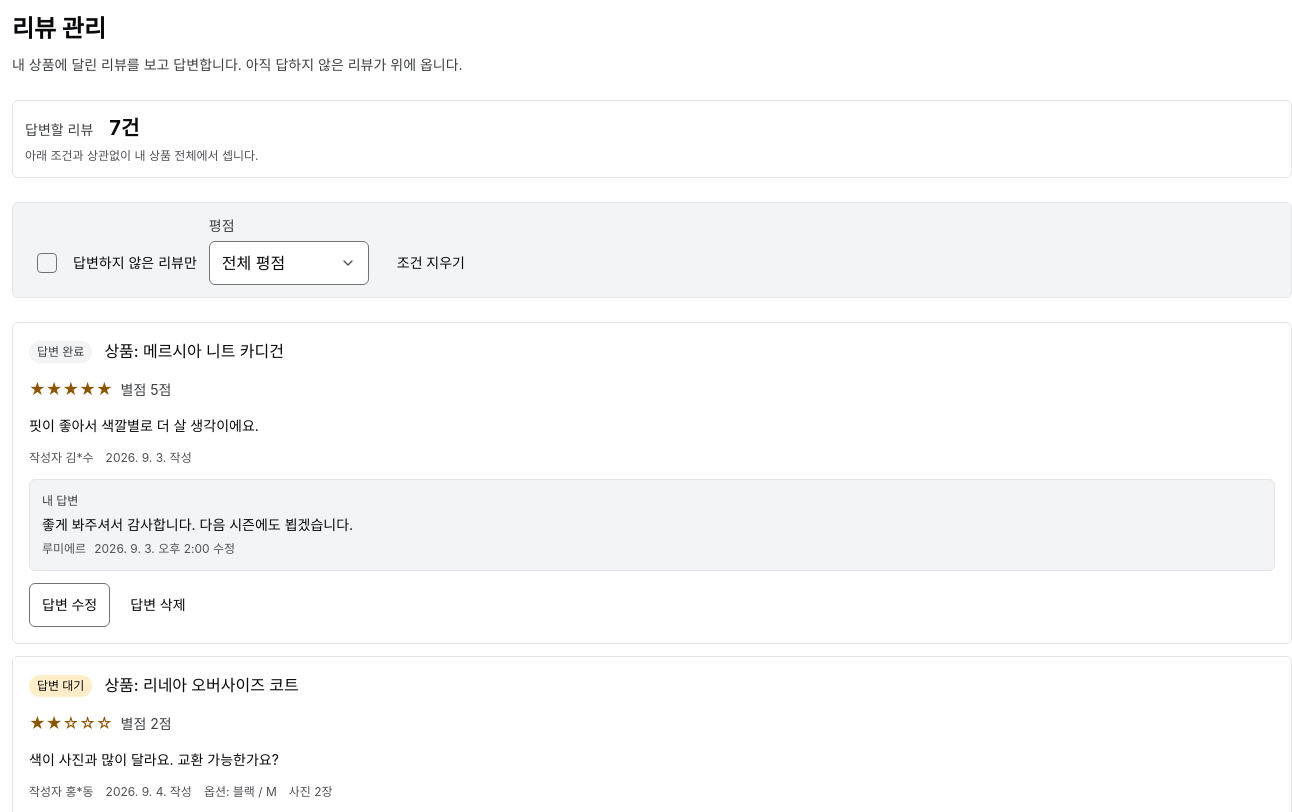
Scenario: the product review console › the filters (F6) › says "none like this" rather than "none at all" when a filter is on
Click the checkbox named "답변하지 않은 리뷰만": {"x": 47, "y": 263} [25,241,69,285]
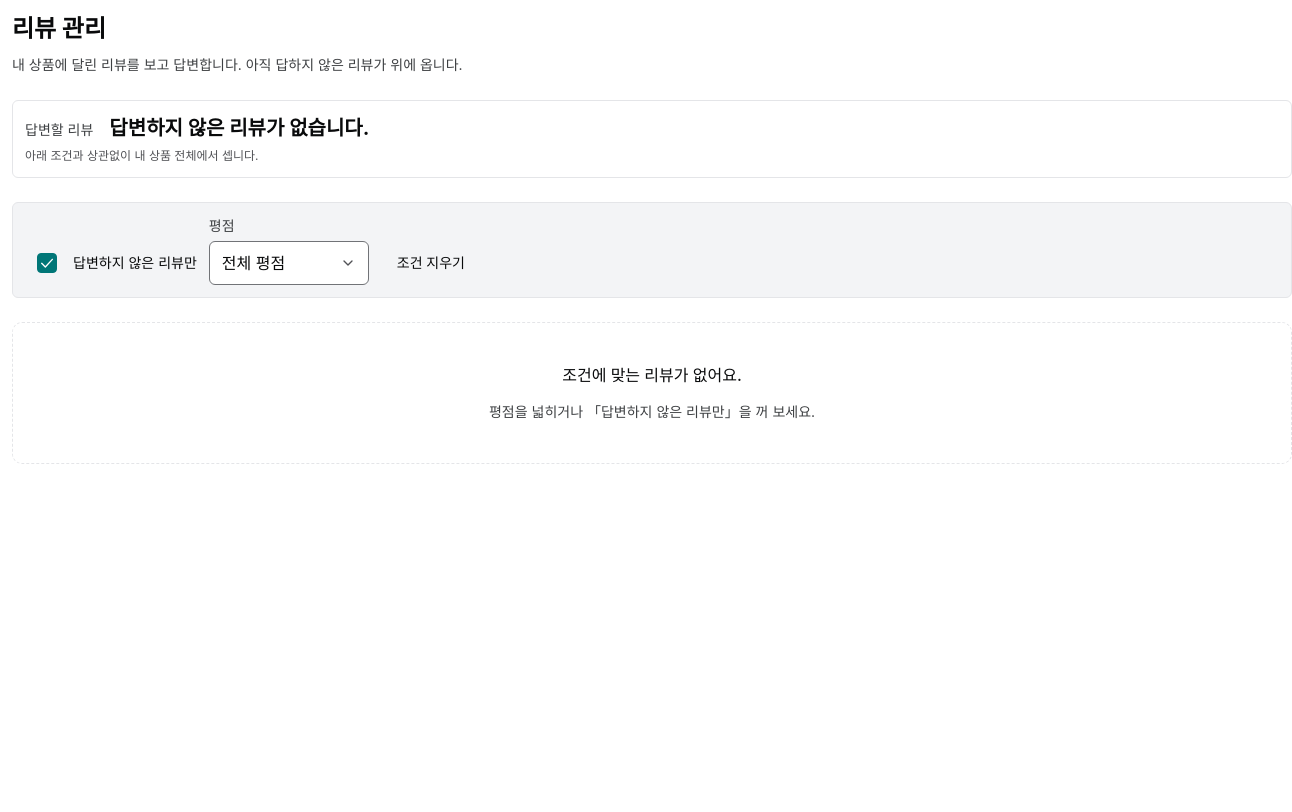
Now the text "조건에 맞는 리뷰가 없어요." is shown, box [562,363,742,389]
